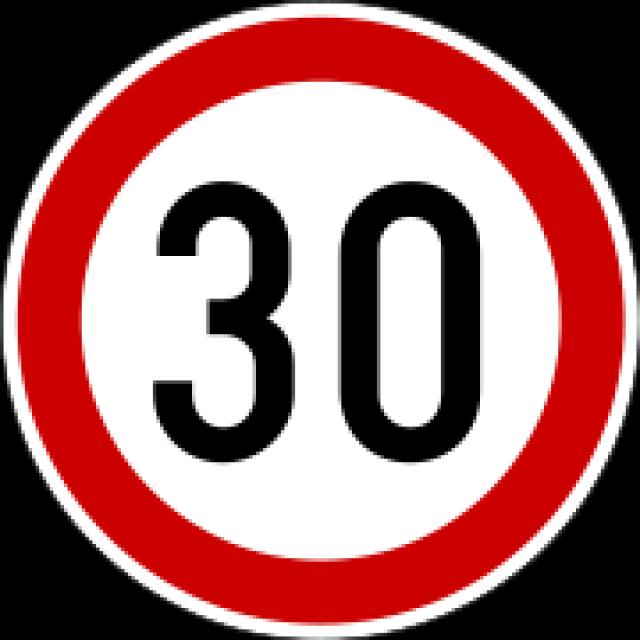Speed Limit -30-: (144, 172, 500, 473)
